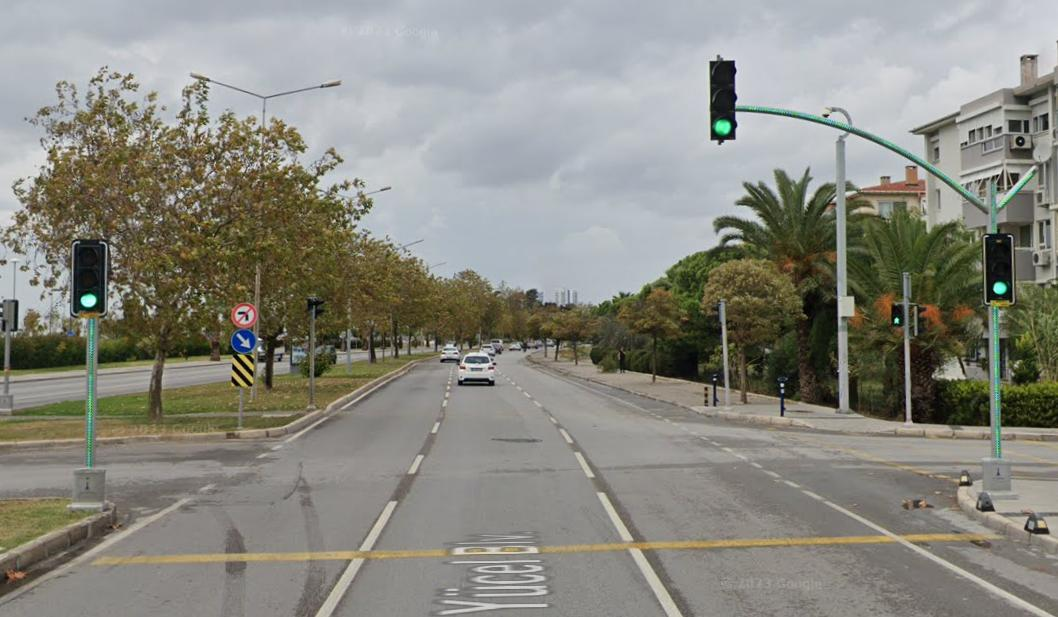greenlight: (71, 241, 107, 317), (710, 60, 737, 138), (987, 234, 1015, 306)
leftturnsareforbidden: (230, 303, 257, 329)
